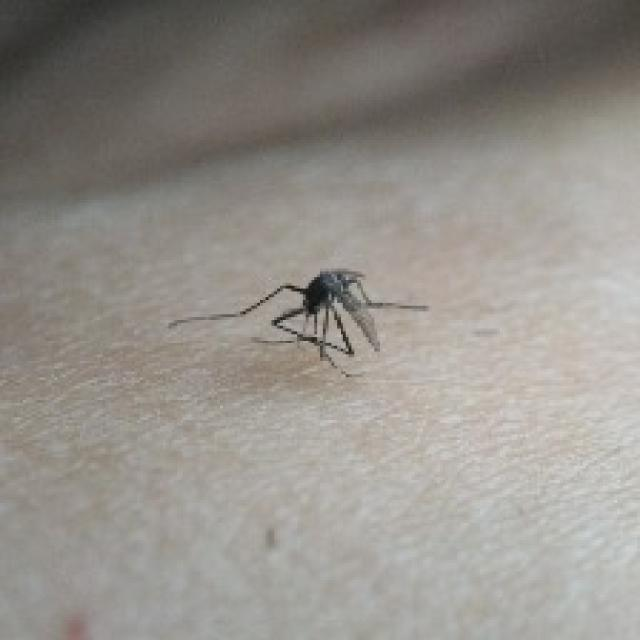aedes: (165, 263, 428, 377)
